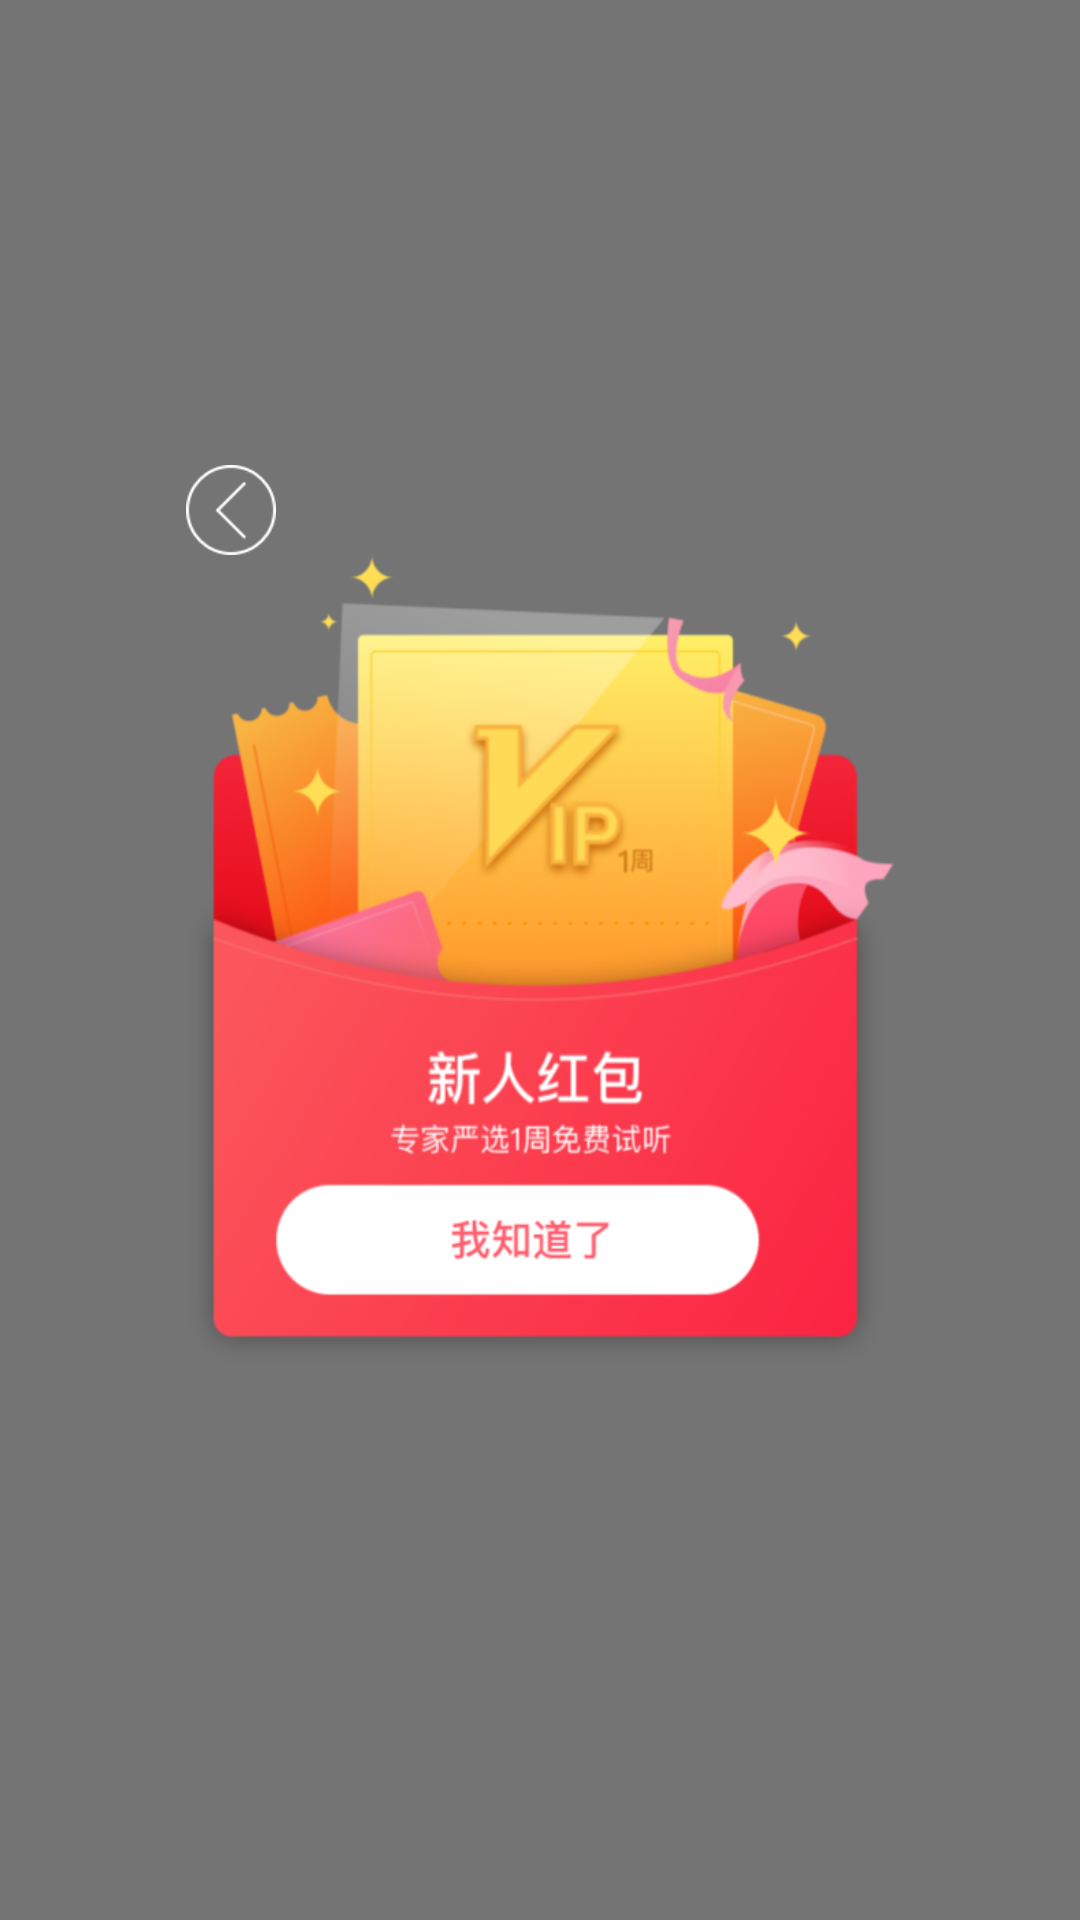

Screen size 1080w x 1920h. Icon name, then its center in pixels as (x=x, y=y):
vip back: (x=231, y=510)
